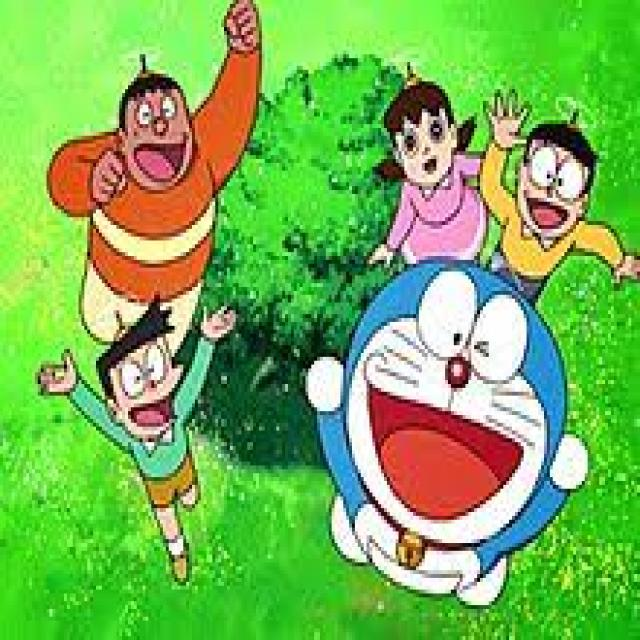doraemon: (332, 248, 584, 570)
jaian: (110, 54, 200, 198)
nobita: (506, 101, 602, 252)
shizuka: (367, 66, 474, 198)
suneo: (87, 287, 189, 446)
